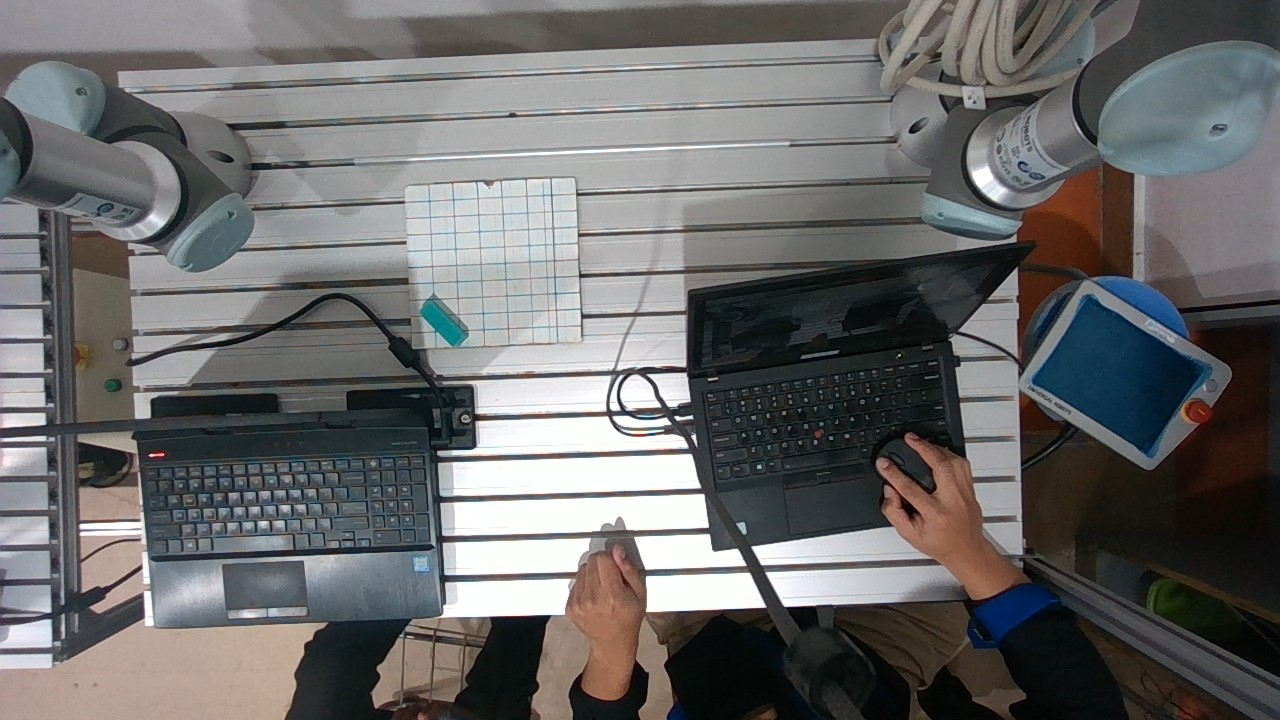box: (408, 288, 481, 358)
